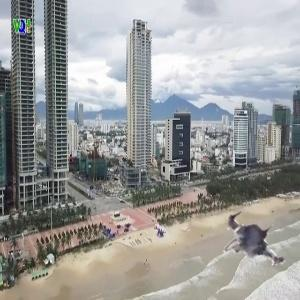drone: (208, 193, 299, 284)
